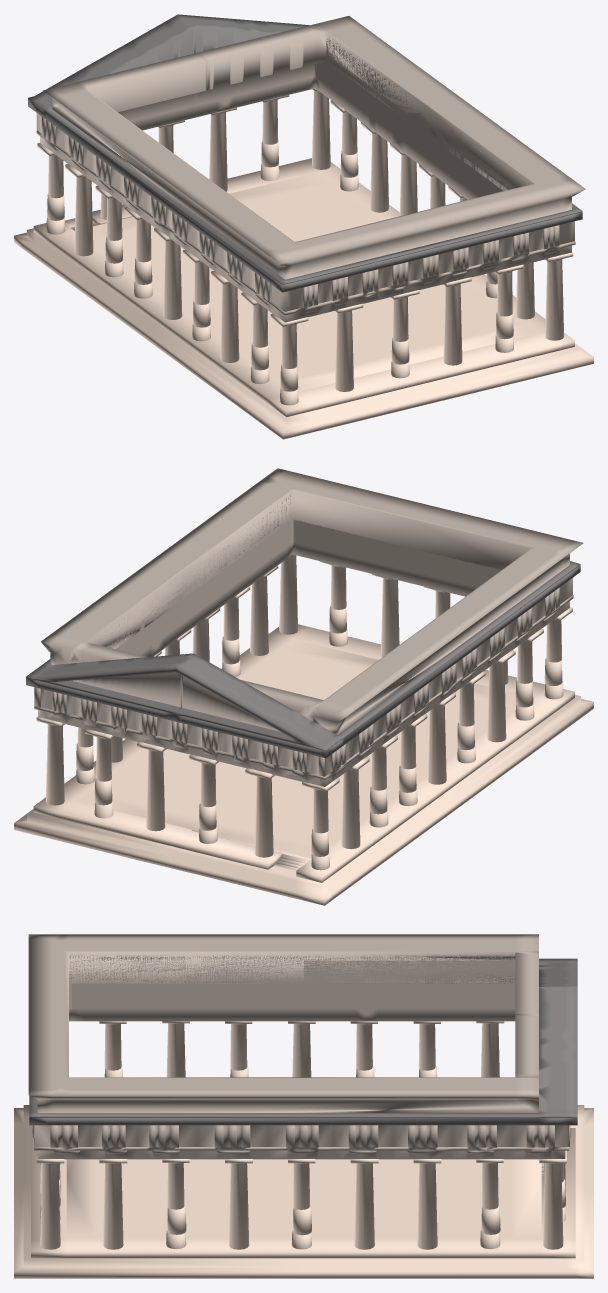
Rendered from parthenon.glb.
The picture shows the model from 3 angles, top to bottom: view 1: azimuth 30°, elevation 25°; view 2: azimuth 150°, elevation 25°; view 3: azimuth 270°, elevation 25°; orthographic projection. The views are drawn at different scales.
Visible parts, largest first — view 1: parthenon; view 2: parthenon; view 3: parthenon.
Boxes of the visible parts, x1,y1,x2,y2 form: parthenon: [14, 14, 593, 439]; parthenon: [14, 468, 593, 905]; parthenon: [14, 934, 593, 1278].
Bounding box in the file's own units: 1.55 × 0.9334 × 2.33.
